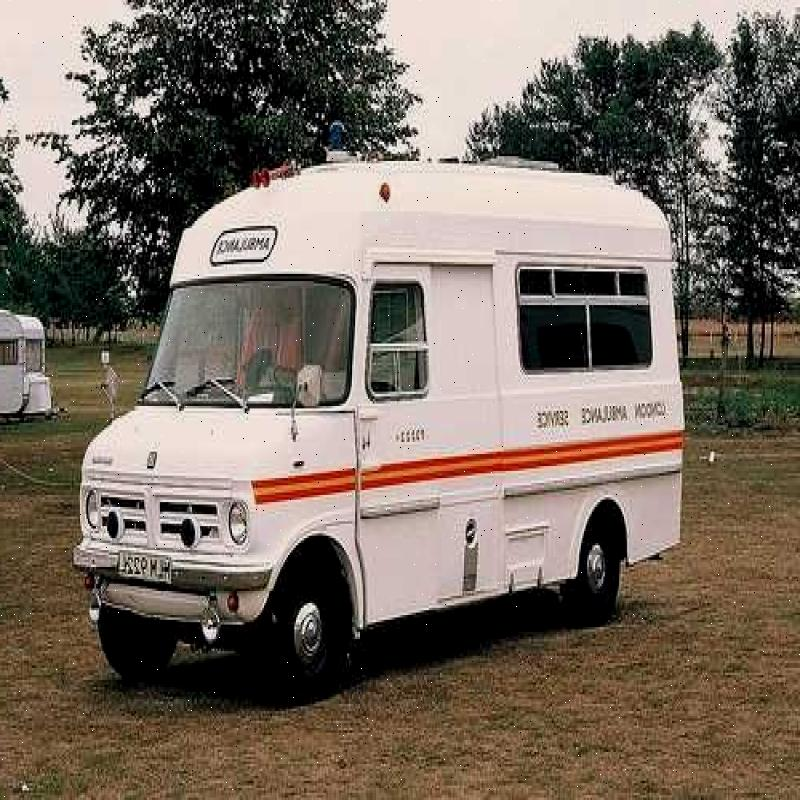AmbulanceSiren: (332, 123, 356, 166)
